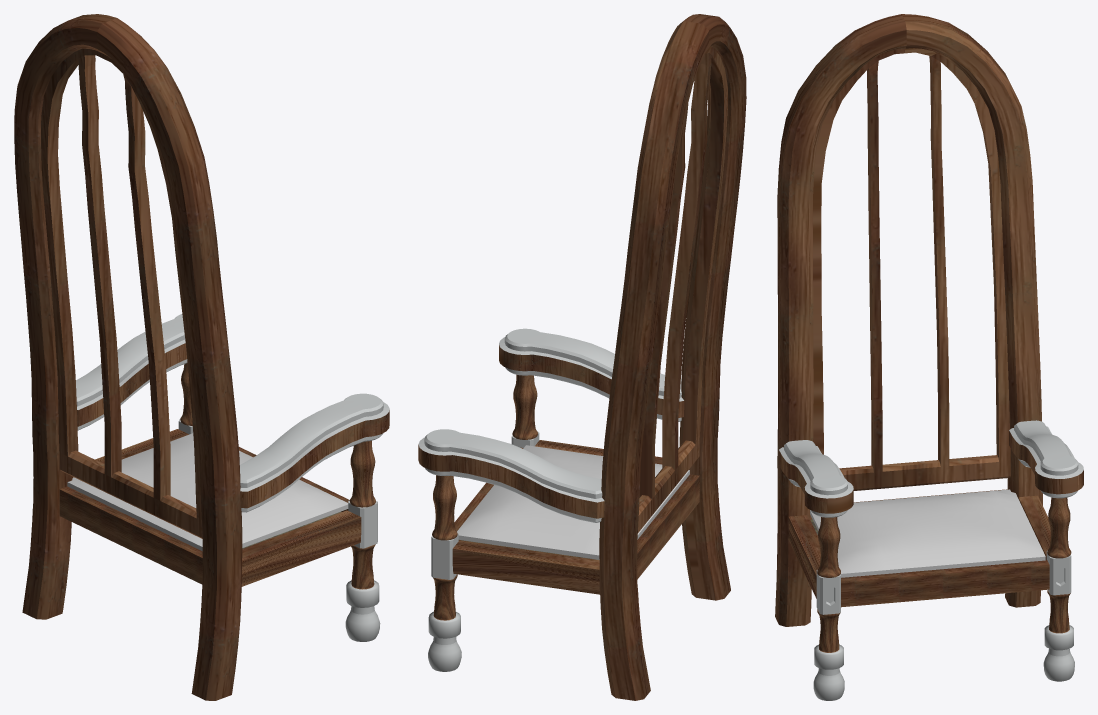
The model's file is chair.fbx.
3 views of the same model, side by side, from view 1: azimuth 30°, elevation 25°; view 2: azimuth 150°, elevation 25°; view 3: azimuth 270°, elevation 25° (orthographic). The views are drawn at different scales.
Parts seen in each view (by area): view 1: support_l, bars_back, support_r, cushion, armRest_l, support_back, armRest_r, legStand_l, armFrame_l, armStand_l; view 2: support_r, bars_back, support_l, armRest_r, cushion, armRest_l, legStand_r, support_back, armFrame_l, armFrame_r, armStand_r; view 3: bars_back, support_l, support_r, cushion, support_front, armRest_l, armRest_r, legStand_r, legStand_l, armFrame_r, armFrame_l, armStand_l (+1 smaller).
Boxes of the visible parts, left/top/right/bottom form: support_l: left=97, top=18, right=361, bottom=700; bars_back: left=41, top=48, right=202, bottom=538; support_r: left=14, top=14, right=188, bottom=619; cushion: left=67, top=433, right=348, bottom=551; armRest_l: left=240, top=393, right=389, bottom=512; support_back: left=59, top=486, right=202, bottom=584; armRest_r: left=76, top=314, right=187, bottom=430; legStand_l: left=345, top=544, right=380, bottom=641; armFrame_l: left=349, top=440, right=375, bottom=507; armStand_l: left=348, top=500, right=377, bottom=548; support_r: left=452, top=21, right=708, bottom=700; bars_back: left=637, top=46, right=727, bottom=533; support_l: left=535, top=14, right=746, bottom=600; armRest_r: left=418, top=429, right=604, bottom=522; cushion: left=457, top=445, right=689, bottom=559; armRest_l: left=499, top=328, right=684, bottom=421; legStand_r: left=428, top=574, right=461, bottom=671; support_back: left=637, top=474, right=699, bottom=579; armFrame_l: left=512, top=374, right=537, bottom=439; armFrame_r: left=432, top=475, right=457, bottom=540; armStand_r: left=431, top=532, right=458, bottom=579; bars_back: left=813, top=48, right=1010, bottom=490; support_l: left=775, top=14, right=906, bottom=626; support_r: left=902, top=14, right=1050, bottom=607; cushion: left=810, top=489, right=1045, bottom=577; support_front: left=841, top=560, right=1049, bottom=607; armRest_l: left=778, top=440, right=853, bottom=517; armRest_r: left=1009, top=420, right=1083, bottom=498; legStand_r: left=1043, top=590, right=1074, bottom=681; legStand_l: left=813, top=609, right=844, bottom=700; armFrame_r: left=1047, top=497, right=1071, bottom=558; armFrame_l: left=817, top=517, right=840, bottom=577; armStand_l: left=816, top=570, right=840, bottom=614.
Size of the model in its own units: 1.96 by 4.42 by 2.12.
